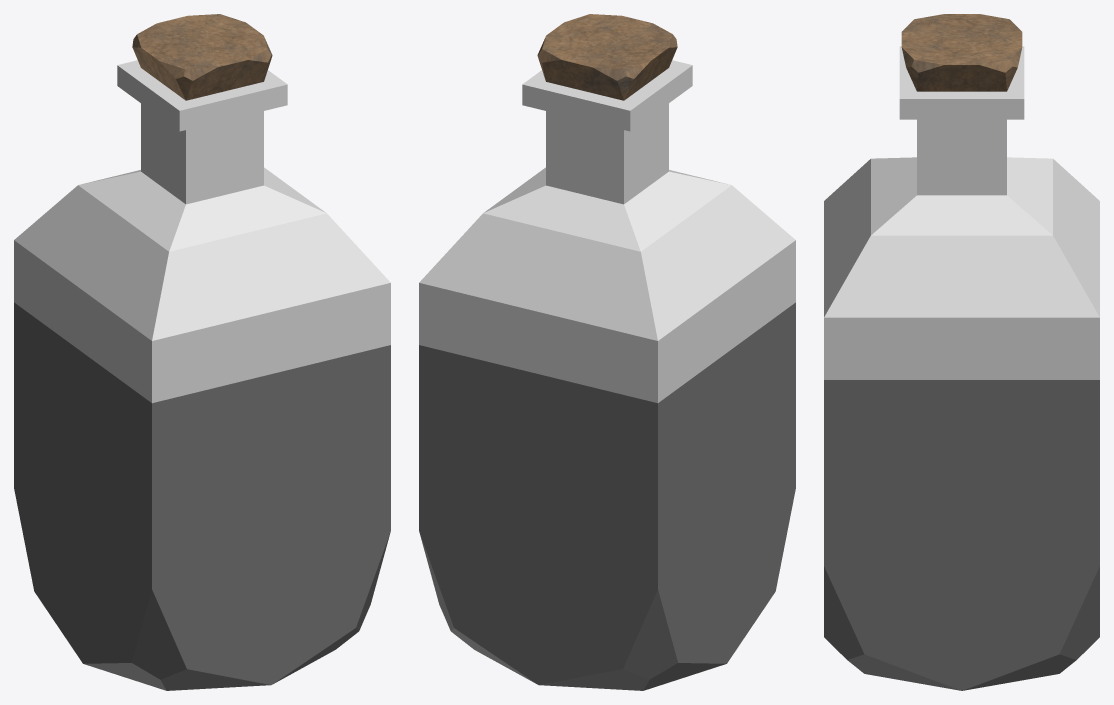
Rendered from MetalPotion.fbx.
3 views of the same model, side by side, from view 1: azimuth 30°, elevation 25°; view 2: azimuth 150°, elevation 25°; view 3: azimuth 270°, elevation 25° (orthographic).
Visible parts, largest first — view 1: MetalPotion; view 2: MetalPotion; view 3: MetalPotion.
Part boxes in pixels (box(x1,y1,x2,y2)): MetalPotion: box(14, 14, 390, 690); MetalPotion: box(419, 14, 795, 690); MetalPotion: box(824, 14, 1099, 690).
Bounding box in the file's own units: 12.06 × 28.6 × 12.06.
